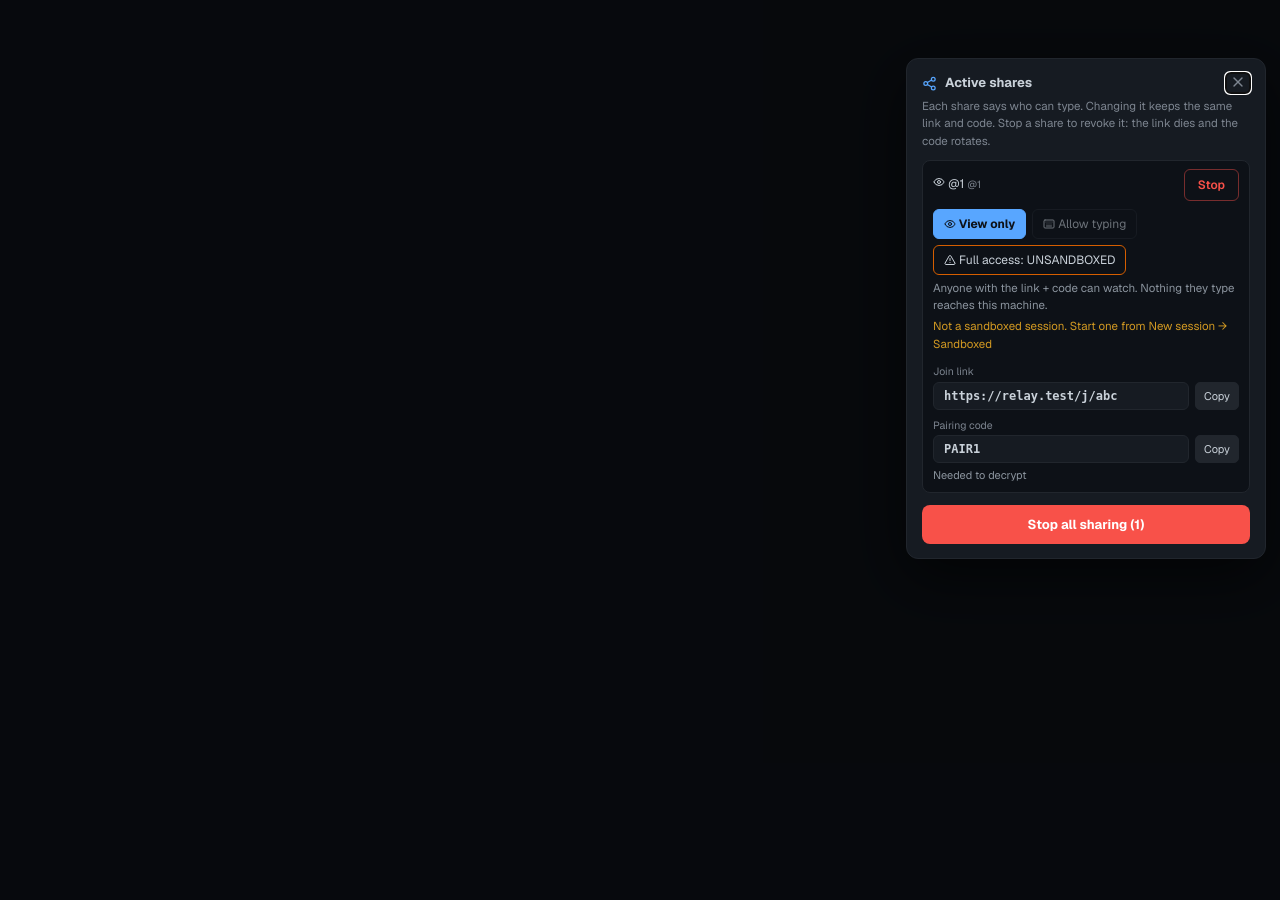
Test case: the upgrade picker lists the server choices, preselected to the default; 30 min needs one name
Click the button "Full access: UNSANDBOXED": (1030, 260) [933,245,1126,275]
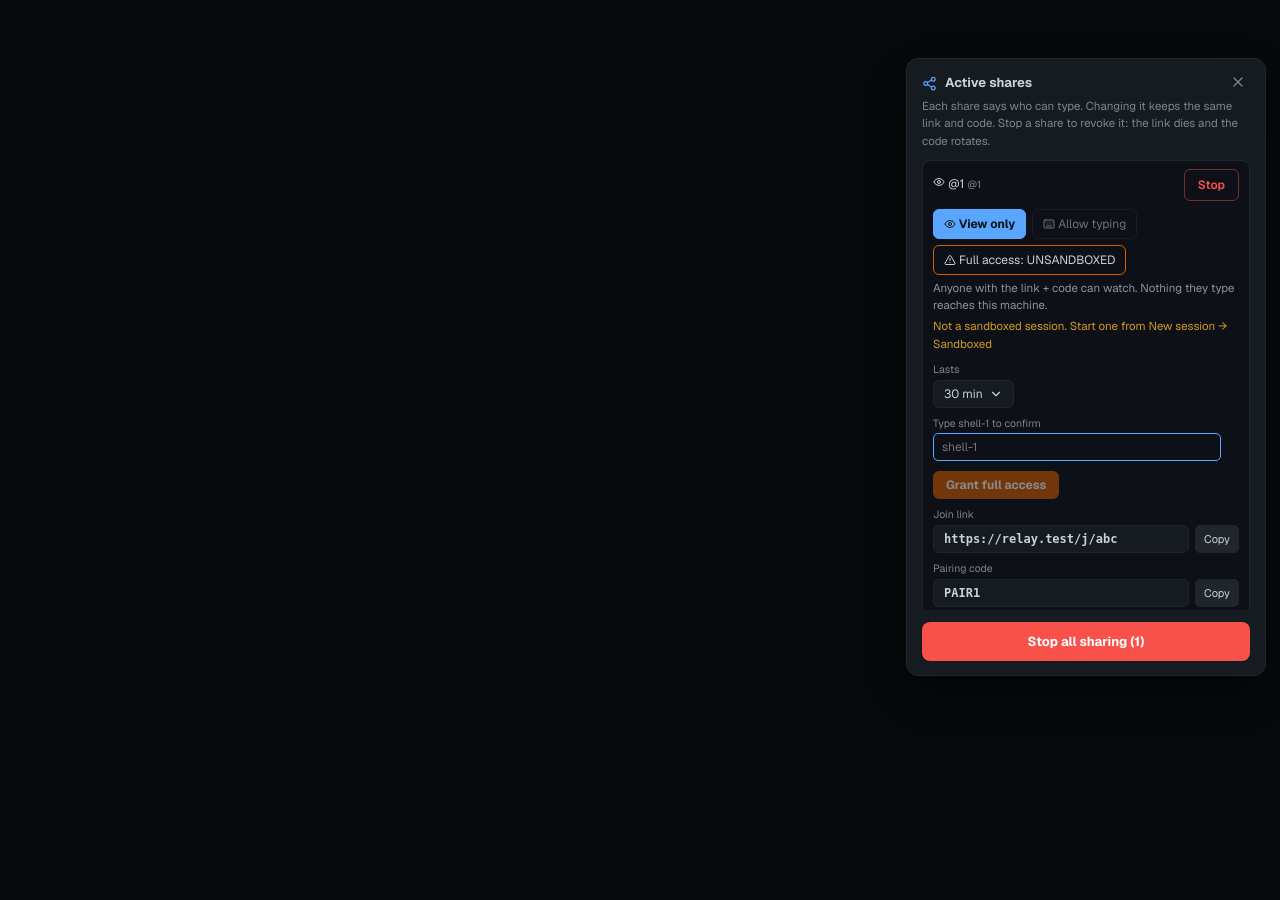
Check: the dropdown named "How long full access lasts" reads "30 min"
Press Enter in the dropdown named "How long full access lasts", box [933,380,1014,408]
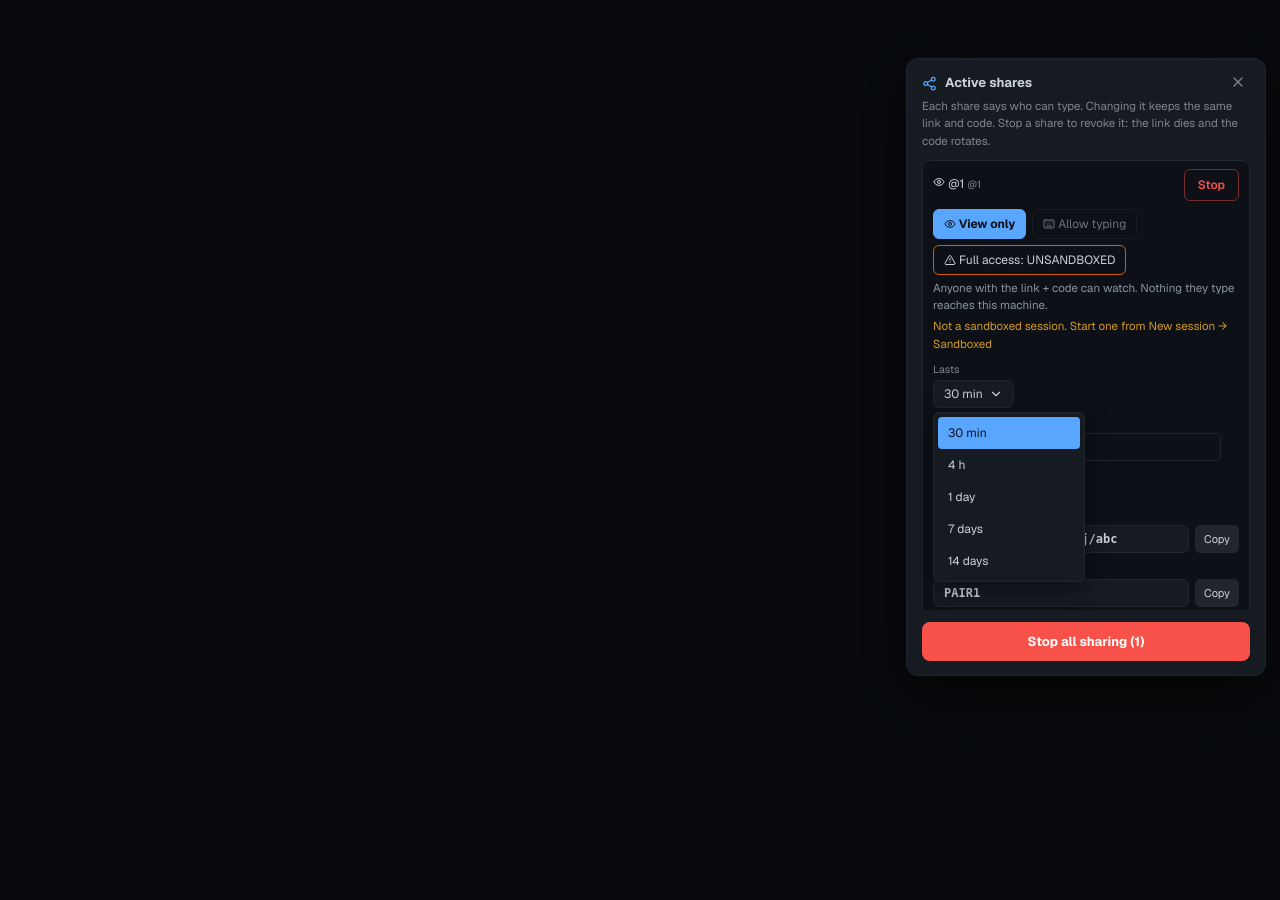
Check: the options read "30 min", "4 h", "1 day", "7 days", "14 days", in this order, box [938,417,1080,449]; [948,457,965,473]; [948,489,975,505]; [948,521,983,537]; [948,553,988,569]
